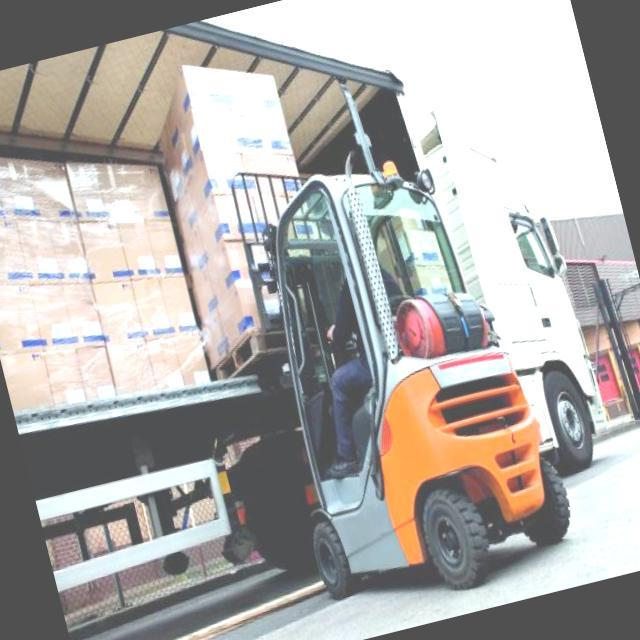forklift: (212, 121, 588, 628)
